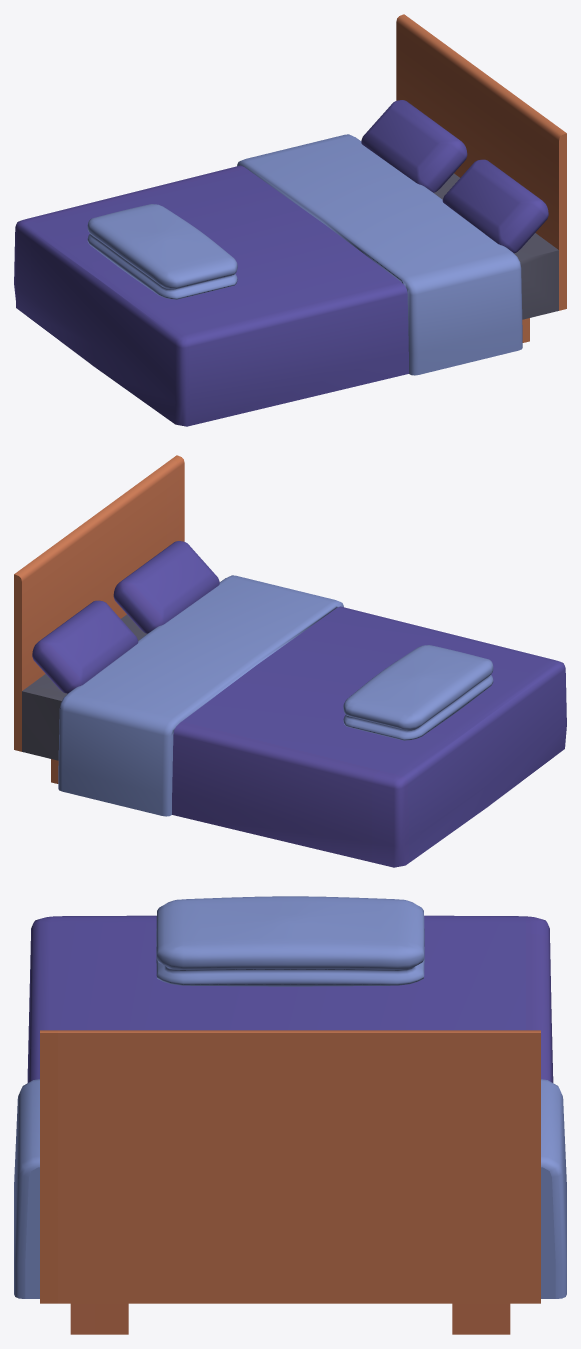
The model's file is obj_bed_3x2.FBX.
3 views of the same model, one above another, from view 1: azimuth 30°, elevation 25°; view 2: azimuth 150°, elevation 25°; view 3: azimuth 270°, elevation 25° (orthographic). The views are drawn at different scales.
Parts seen in each view (by area): view 1: obj_bed_3x2; view 2: obj_bed_3x2; view 3: obj_bed_3x2.
Boxes of the visible parts, bbox=[...] form: obj_bed_3x2: bbox=[14, 14, 566, 426]; obj_bed_3x2: bbox=[14, 455, 566, 867]; obj_bed_3x2: bbox=[14, 896, 566, 1334].
Size of the model in its own units: 2.37 by 1.21 by 1.88.
1 material, 1 textured.
